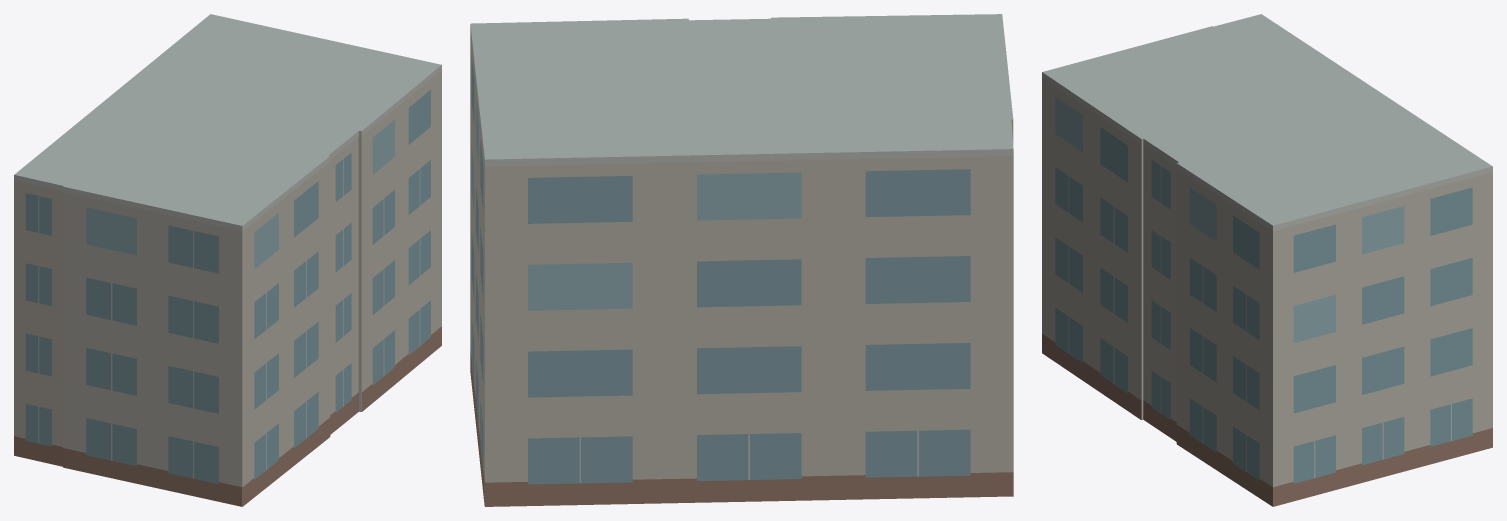
The model's file is survey-upis-32668579.glb.
The picture shows the model from 3 angles, left to right: view 1: azimuth 30°, elevation 25°; view 2: azimuth 150°, elevation 25°; view 3: azimuth 270°, elevation 25°; orthographic projection. The views are drawn at different scales.
Parts seen in each view (by area): view 1: survey-upis-32668579.tmp; view 2: survey-upis-32668579.tmp; view 3: survey-upis-32668579.tmp.
Boxes of the visible parts, x1,y1,x2,y2 form: survey-upis-32668579.tmp: (14, 14, 441, 506); survey-upis-32668579.tmp: (470, 14, 1013, 506); survey-upis-32668579.tmp: (1042, 14, 1492, 506).
Size of the model in its own units: 19.79 by 12.25 by 17.81.
